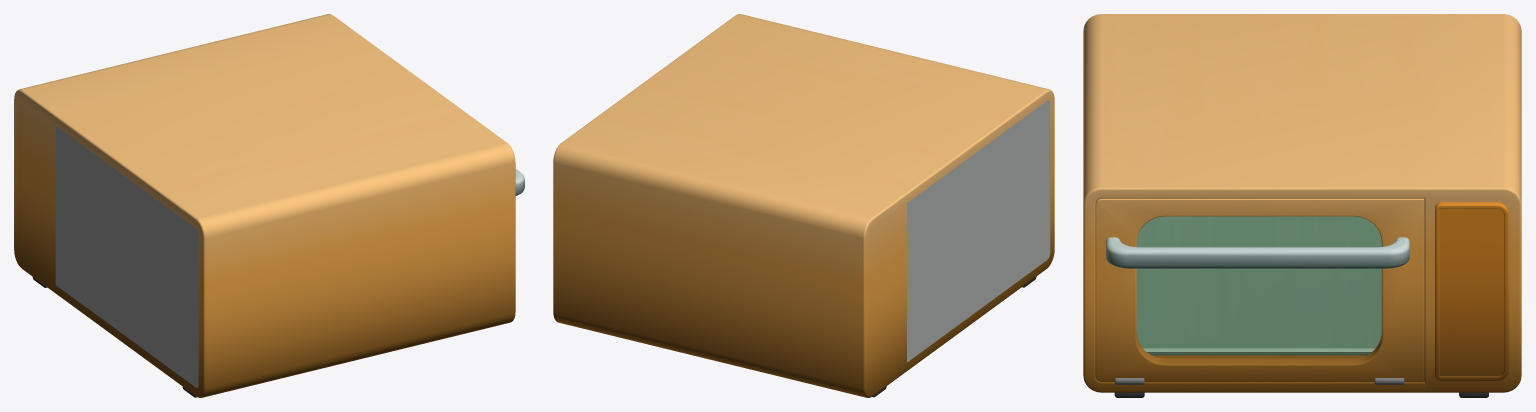
File: oven.fbx
The picture shows the model from 3 angles, left to right: view 1: azimuth 30°, elevation 25°; view 2: azimuth 150°, elevation 25°; view 3: azimuth 270°, elevation 25°; orthographic projection. The views are drawn at different scales.
Visible parts, largest first — view 1: Base Oven; view 2: Base Oven; view 3: Base Oven, Door, Tray 2, Timer, Tray 1.
Part boxes in pixels (box(x1,y1,x2,y2)): Base Oven: box(14, 14, 515, 397); Base Oven: box(553, 14, 1054, 397); Base Oven: box(1083, 14, 1521, 397); Door: box(1095, 198, 1424, 381); Tray 2: box(1136, 268, 1381, 355); Timer: box(1435, 202, 1508, 380); Tray 1: box(1136, 216, 1381, 247).
Size of the model in its own units: 73.26 by 38.47 by 71.74.
